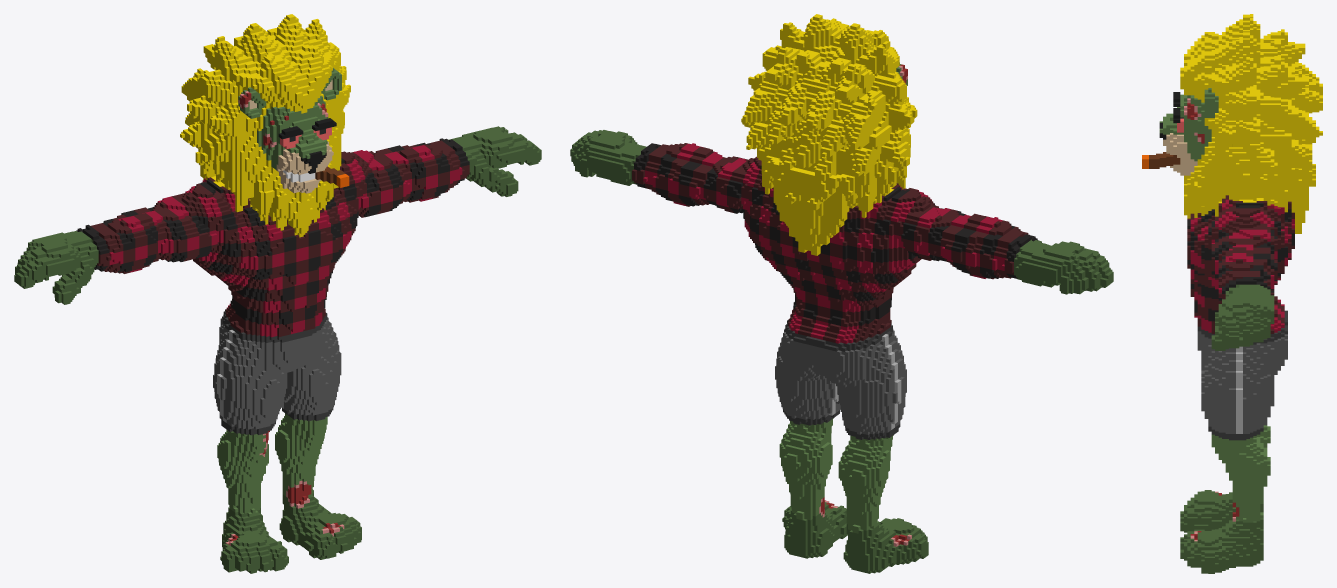
File: 678-Bfy7AXzT.fbx
3 renders of one model, left to right at view 1: azimuth 30°, elevation 25°; view 2: azimuth 150°, elevation 25°; view 3: azimuth 270°, elevation 25°, orthographic. The views are drawn at different scales.
Visible parts, largest first — view 1: cigar; view 2: cigar; view 3: cigar.
Boxes of the visible parts, x1,y1,x2,y2 form: cigar: [14, 14, 541, 573]; cigar: [570, 14, 1113, 573]; cigar: [1142, 14, 1322, 573].
Bounding box in the file's own units: 17.2 × 16.5 × 5.2.
Materials: 5 (5 with a texture image).
